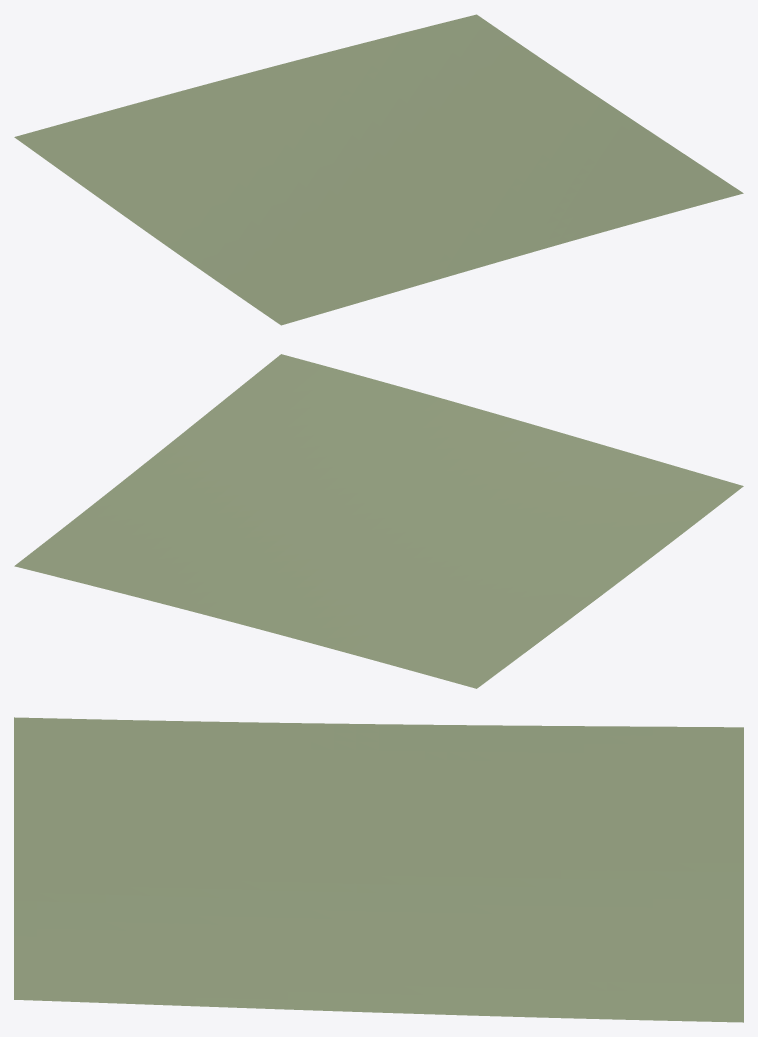
Rendered from expanse-23-0.glb.
3 views of the same model, one above another, from view 1: azimuth 30°, elevation 25°; view 2: azimuth 150°, elevation 25°; view 3: azimuth 270°, elevation 25° (orthographic). The views are drawn at different scales.
Visible parts, largest first — view 1: expanse-23-0; view 2: expanse-23-0; view 3: expanse-23-0.
Boxes of the visible parts, x1=… form: expanse-23-0: x1=14, y1=14, x2=743, y2=325; expanse-23-0: x1=14, y1=354, x2=743, y2=688; expanse-23-0: x1=14, y1=717, x2=743, y2=1022.
Bounding box in the file's own units: 256 × 13.93 × 256.
